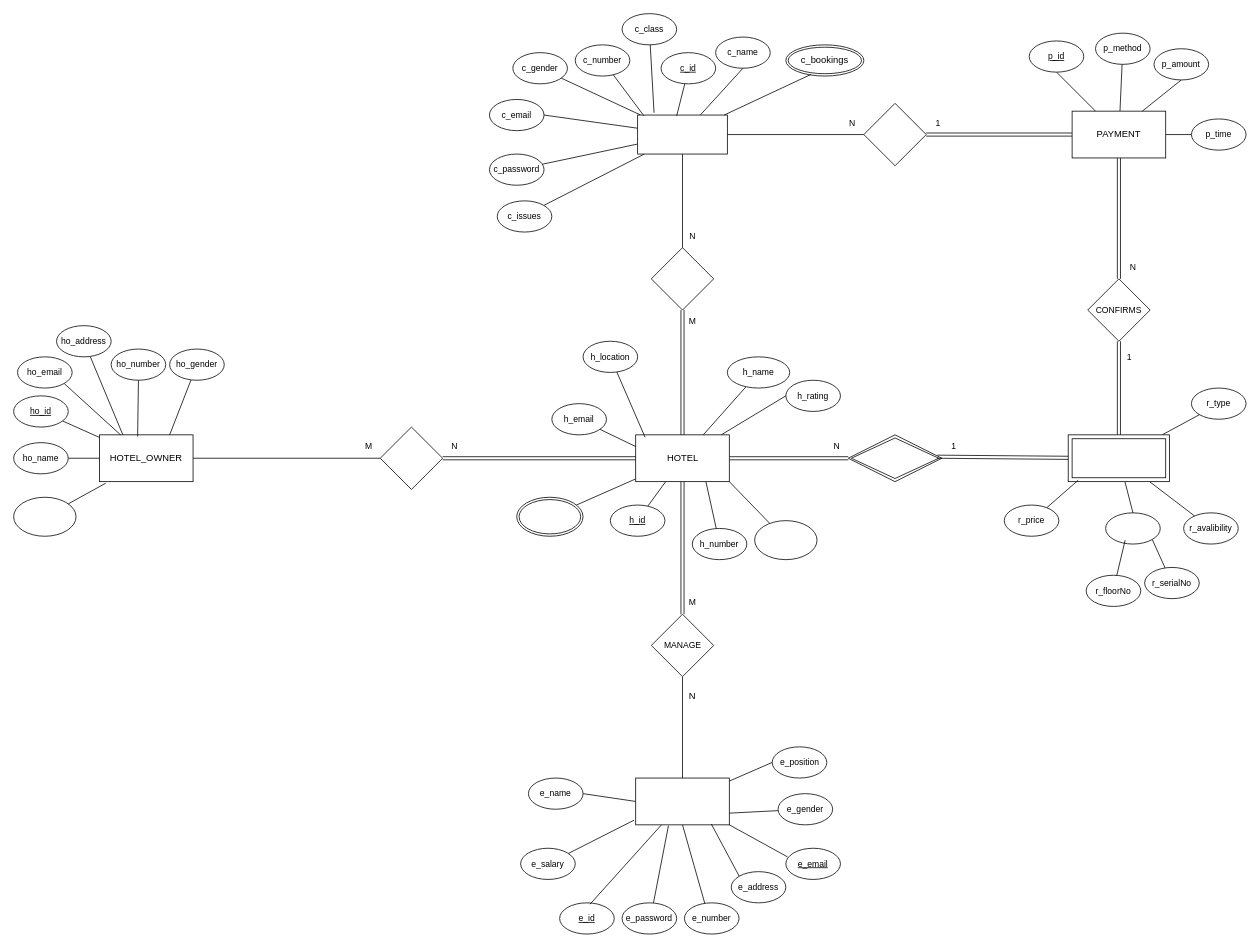
Some shapes in this 1260 by 948 pixel diagram are drawn without their labels. The shapes that lost their labels are listed below. From the top down, each one's centre as x and y in pixels, then its label:
At pixel 682 134: "CUSTOMER".
At pixel 894 134: "MAKE".
At pixel 682 278: "VIEWS".
At pixel 411 457: "OWNS".
At pixel 894 458: "HAS".
At pixel 1118 458: "ROOM".
At pixel 44 516: "ho_password".
At pixel 549 516: "h_features".
At pixel 1132 528: "r_roomNo".
At pixel 785 540: "h_incentive".
At pixel 682 801: "EMPLOYEE".
